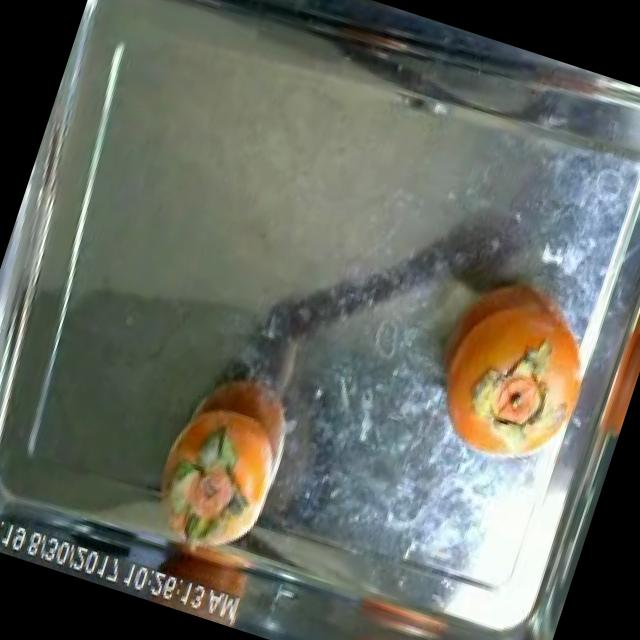Fruit: (335, 572, 474, 640)
